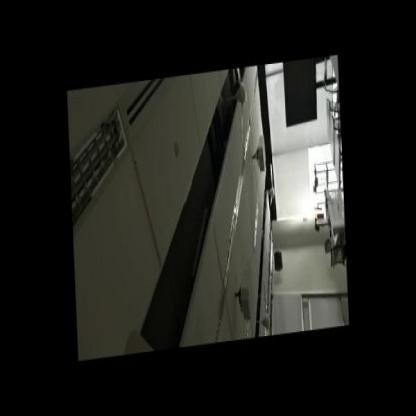light_off: (69, 98, 133, 240), (210, 193, 246, 296), (238, 114, 254, 164)
